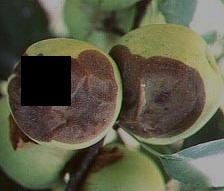rotten apple: (112, 22, 224, 148), (6, 36, 122, 151)
